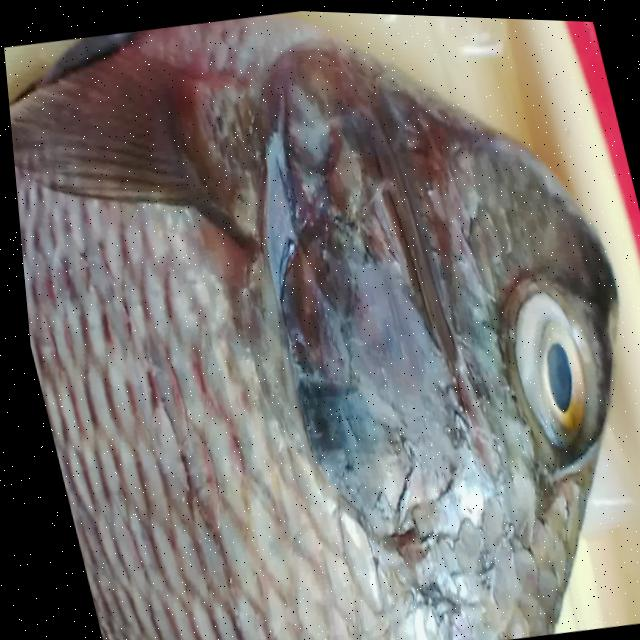Fresh: (3, 40, 414, 640), (474, 249, 627, 489)
